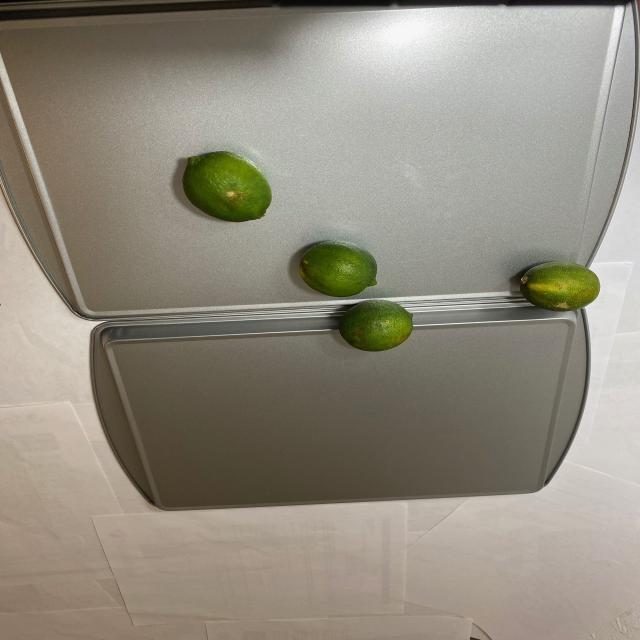lemon: (299, 239, 419, 353), (177, 139, 271, 224), (521, 260, 603, 313)
